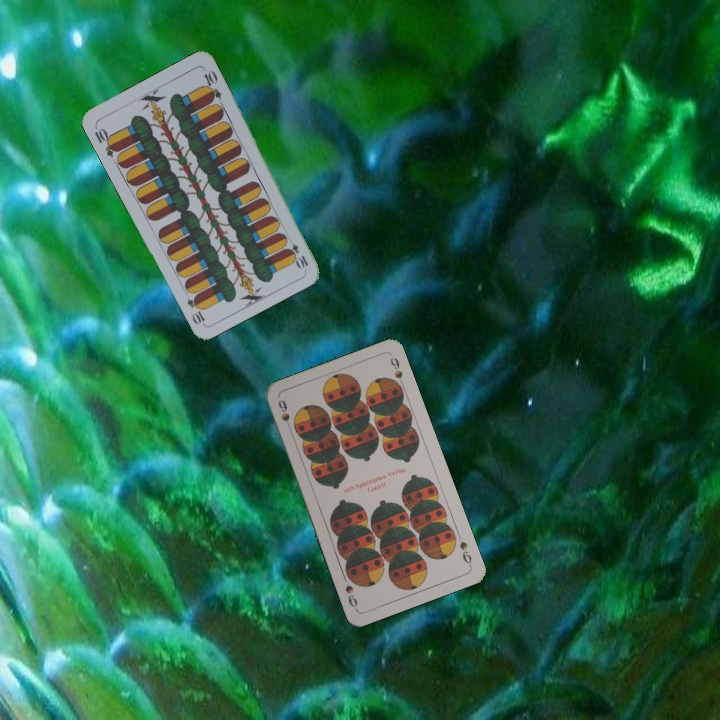E10: (90, 122, 121, 160), (282, 233, 311, 271)
S9: (274, 396, 295, 434), (455, 537, 474, 569)
